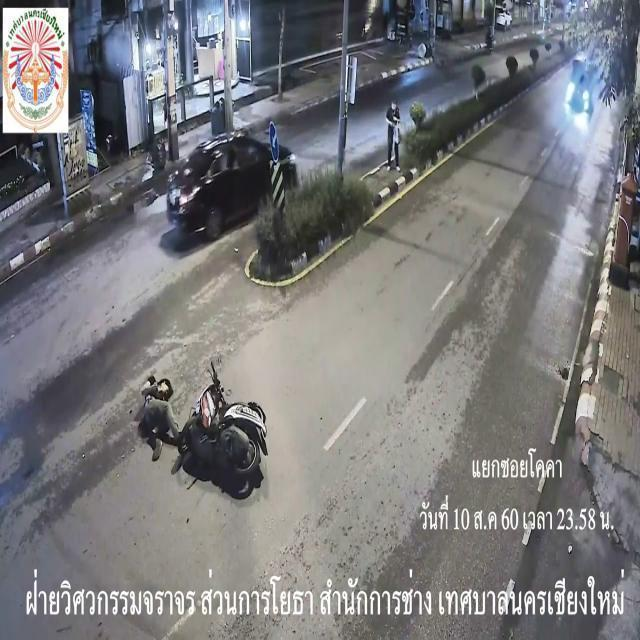accident: (131, 354, 279, 502)
